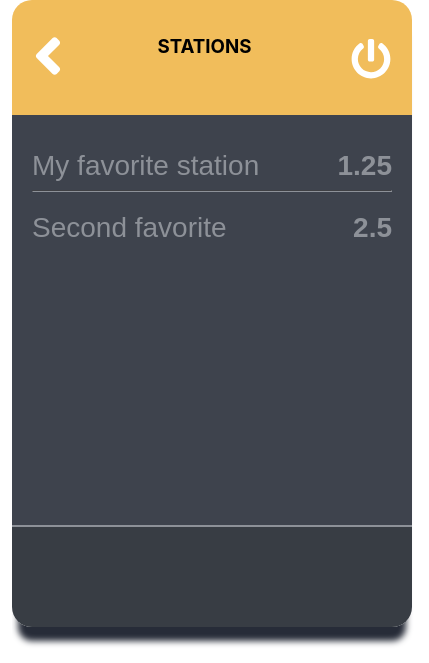
Test: Radio stations page › shows currently playing station on click
Step 1. Click the text "Second favorite" → (129, 228), box [32, 212, 227, 244]
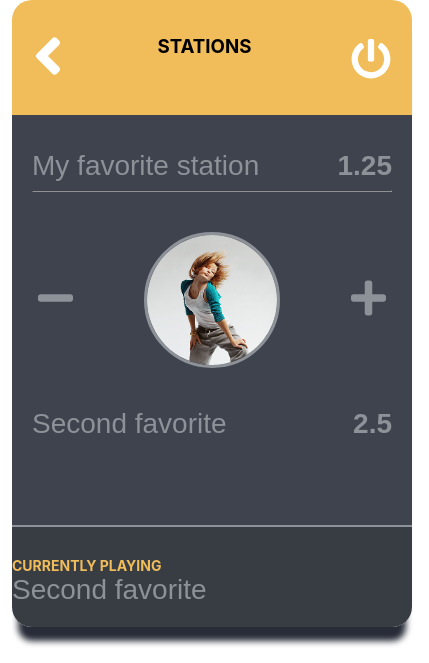
Check: the text "CURRENTLY PLAYING" is shown, box [12, 557, 162, 574]
